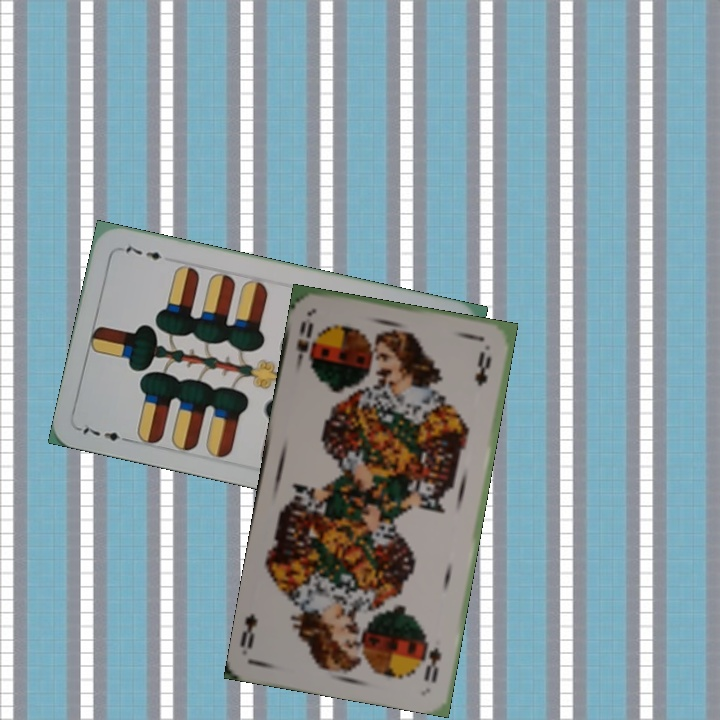E7: (76, 423, 134, 445)
SO: (292, 317, 316, 370), (420, 643, 444, 686)
